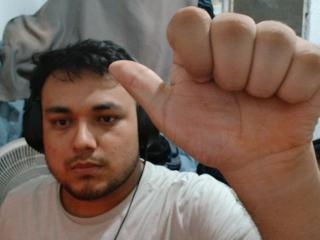Derecha: (107, 4, 320, 172)
